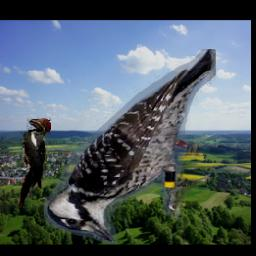Woodpecker: (45, 49, 217, 244), (18, 118, 51, 209)
